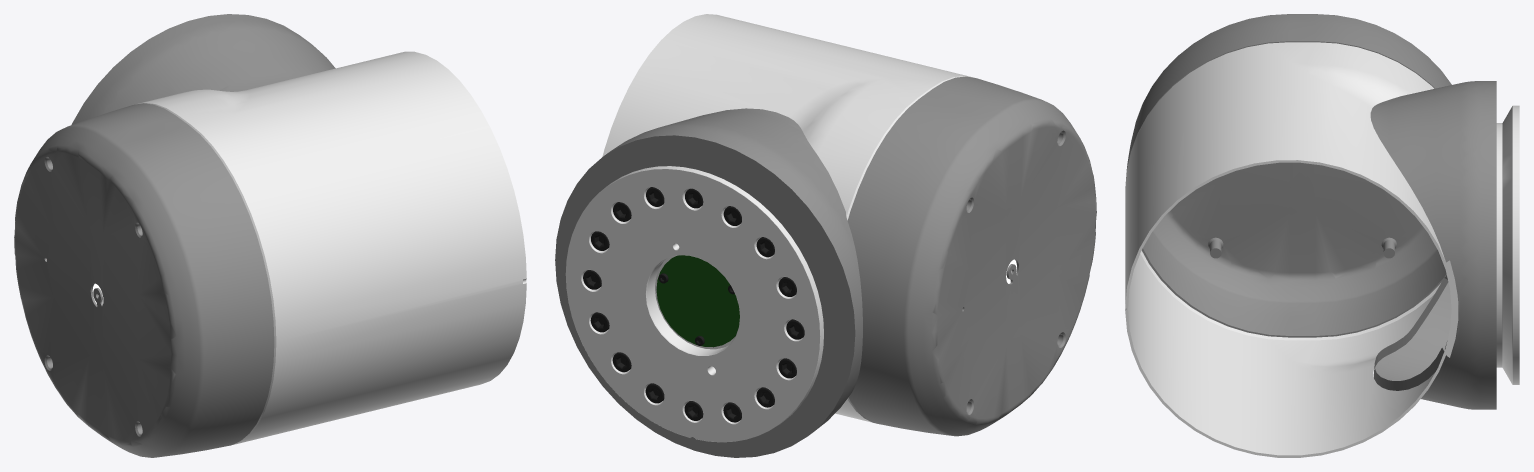
The model's file is D148-proximal.glb.
3 views of the same model, side by side, from view 1: azimuth 30°, elevation 25°; view 2: azimuth 150°, elevation 25°; view 3: azimuth 270°, elevation 25° (orthographic). The views are drawn at different scales.
Visible parts, largest first — view 1: D148-KM-proximal.001; view 2: D148-KM-proximal.001; view 3: D148-KM-proximal.001.
Part boxes in pixels (x1=…): D148-KM-proximal.001: x1=14, y1=14, x2=526, y2=457; D148-KM-proximal.001: x1=555, y1=14, x2=1096, y2=457; D148-KM-proximal.001: x1=1125, y1=14, x2=1519, y2=457.
Bounding box in the file's own units: 0.177 × 0.148 × 0.1774.
